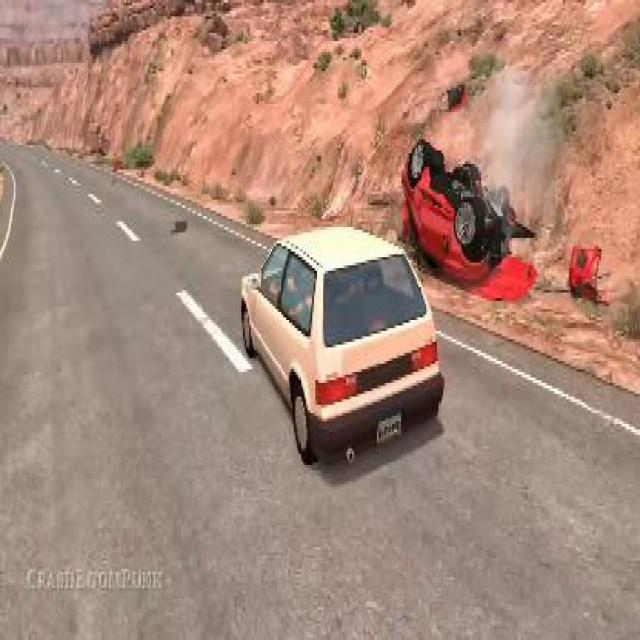accident: (397, 134, 534, 298)
